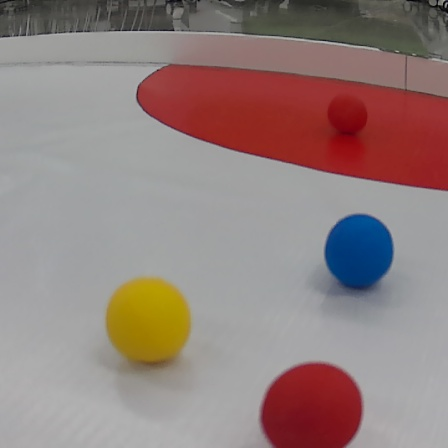blue: (321, 213, 395, 291)
red: (258, 361, 364, 448), (326, 93, 370, 132)
red_base: (133, 54, 448, 197)
yellow: (105, 274, 192, 365)
